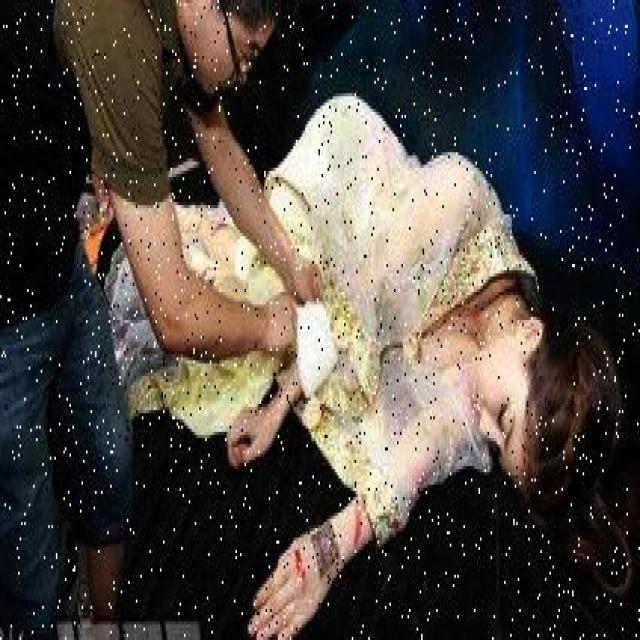fall: (140, 149, 619, 500)
